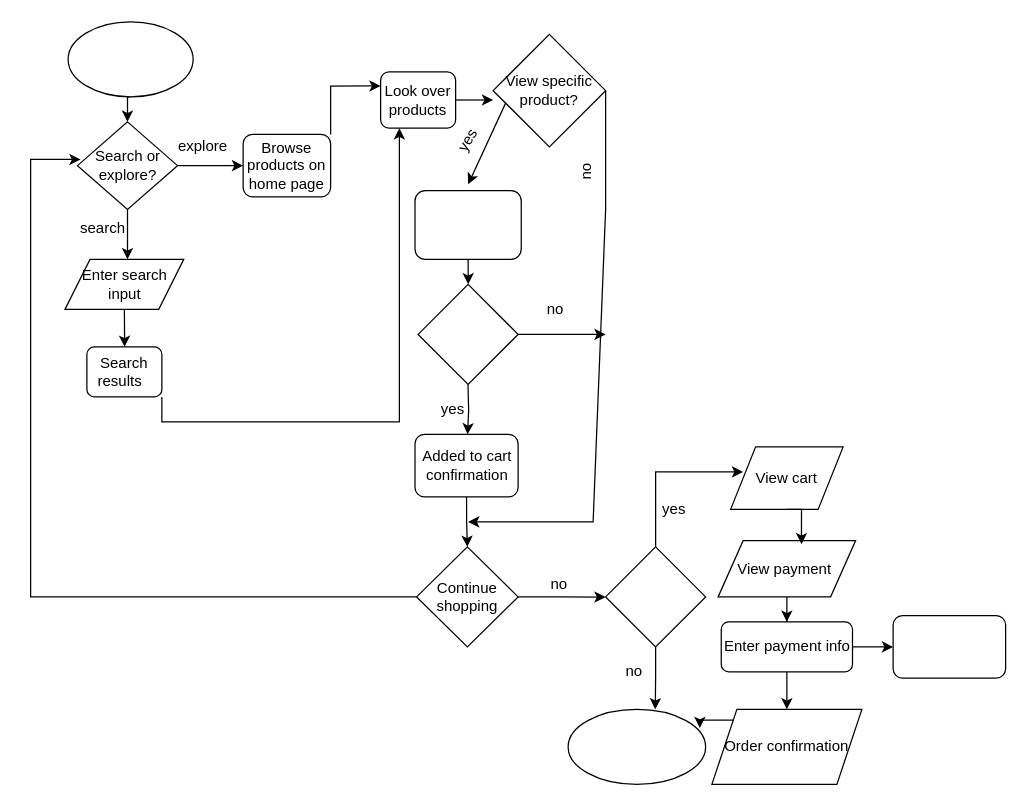
Some shapes in this 1028 by 806 pixel diagram are drawn without their labels. The box of each missing label's shape, as (x1, y1, x2, y2) in pixels:
Add to cart?: (417, 283, 518, 384)
Checkout?: (604, 546, 706, 647)
Enter website: (67, 21, 193, 97)
Leave website: (567, 708, 706, 784)
Open product page: (414, 189, 521, 259)
Receive email: (892, 614, 1006, 678)
